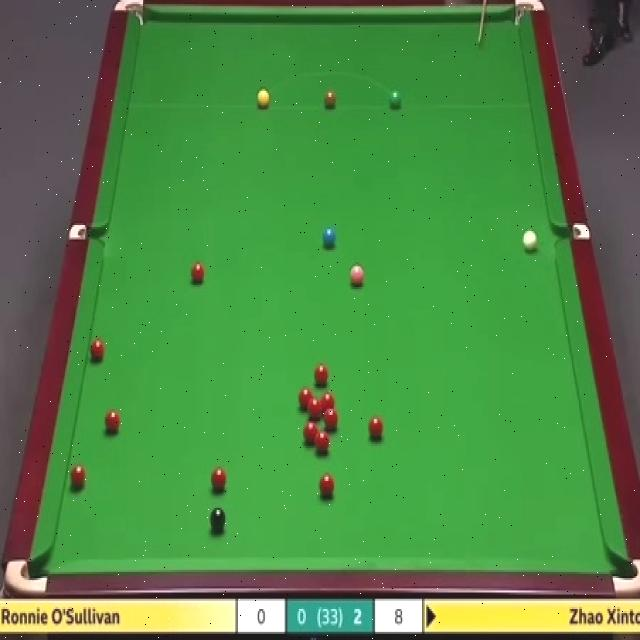black-ball: (210, 506, 228, 530)
blue-ball: (322, 225, 336, 251)
brown-ball: (323, 89, 337, 108)
green-ball: (389, 90, 402, 108)
pink-ball: (350, 266, 365, 289)
red-ball: (68, 462, 86, 491), (88, 338, 107, 365), (102, 406, 119, 434), (297, 384, 315, 410), (319, 472, 336, 499), (312, 363, 331, 386), (211, 466, 228, 491), (367, 416, 384, 440), (322, 418, 340, 440), (303, 420, 318, 444), (321, 393, 336, 417), (307, 398, 323, 420), (190, 264, 205, 283), (316, 409, 331, 426)
white-ball: (521, 228, 538, 254)
yellow-ball: (256, 89, 270, 108)
